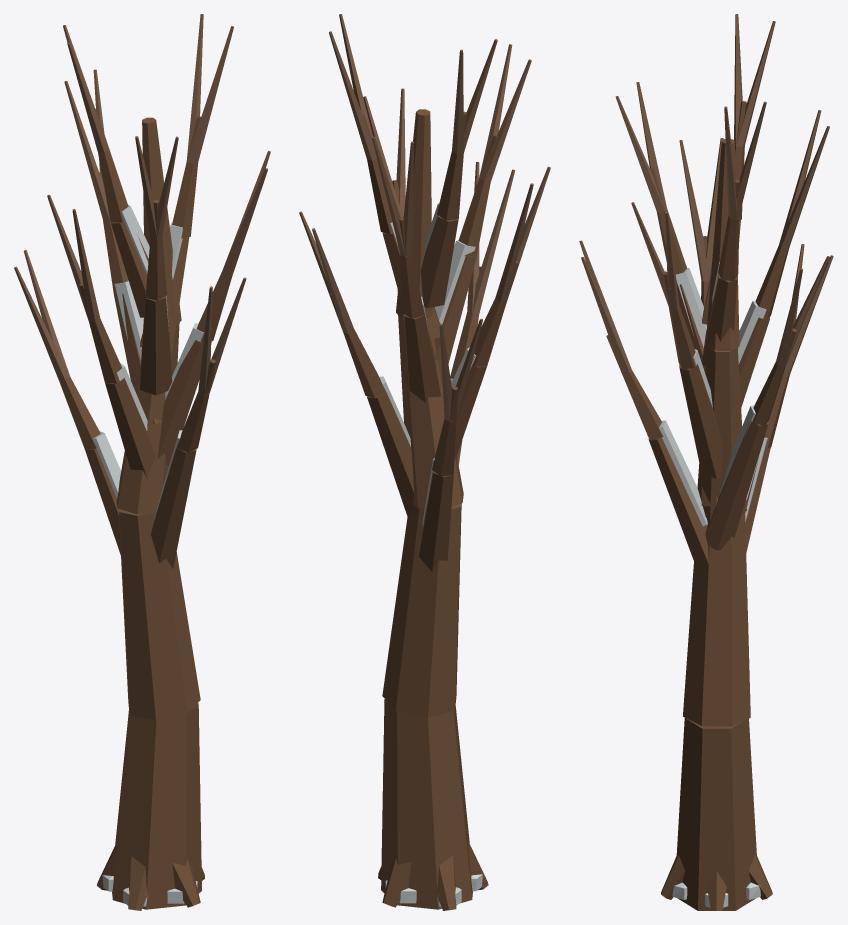
File: tree_tall_winter.glb
3 renders of one model, left to right at view 1: azimuth 30°, elevation 25°; view 2: azimuth 150°, elevation 25°; view 3: azimuth 270°, elevation 25°, orthographic. The views are drawn at different scales.
Visible parts, largest first — view 1: branches, snow; view 2: branches, snow; view 3: branches, snow.
Part boxes in pixels (box(x1,y1,x2,y2)): branches: box(14, 14, 270, 910); snow: box(93, 204, 203, 906); branches: box(299, 14, 550, 910); snow: box(379, 202, 482, 906); branches: box(579, 14, 833, 910); snow: box(659, 262, 767, 907).
Bounding box in the file's own units: 0.3996 × 1.69 × 0.4614.
